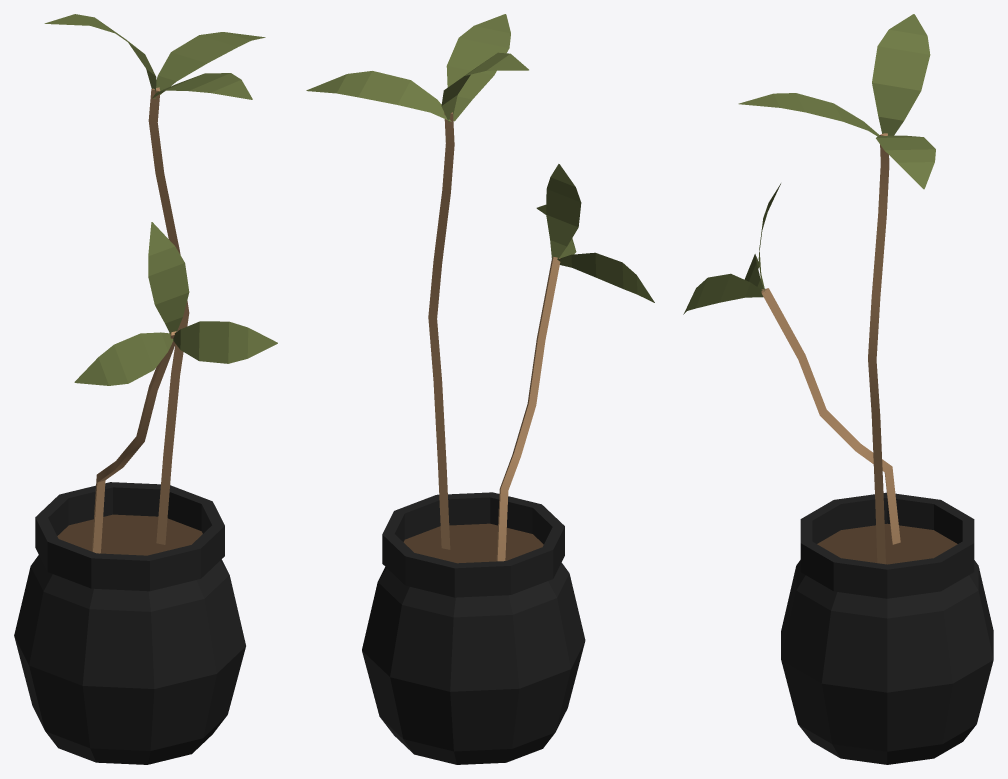
File: SM_plantpot_01.fbx
The picture shows the model from 3 angles, left to right: view 1: azimuth 30°, elevation 25°; view 2: azimuth 150°, elevation 25°; view 3: azimuth 270°, elevation 25°; orthographic projection. The views are drawn at different scales.
Parts seen in each view (by area): view 1: Cylinder037; view 2: Cylinder037; view 3: Cylinder037.
Boxes of the visible parts, x1,y1,x2,y2 form: Cylinder037: (14, 14, 277, 764); Cylinder037: (306, 14, 654, 764); Cylinder037: (683, 14, 993, 764).
Bounding box in the file's own units: 25.71 × 26.09 × 63.43.
